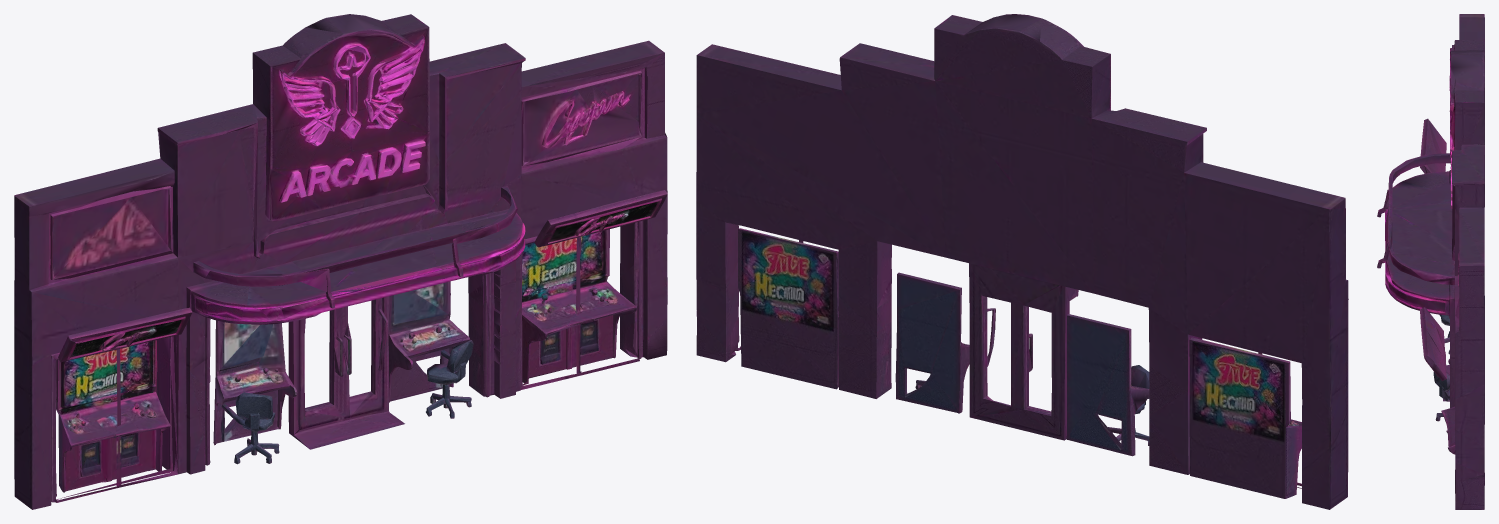
File: mx_bld_arcade.glb
The picture shows the model from 3 angles, left to right: view 1: azimuth 30°, elevation 25°; view 2: azimuth 150°, elevation 25°; view 3: azimuth 270°, elevation 25°; orthographic projection. The views are drawn at different scales.
Bounding box in the file's own units: 1.9 × 1.15 × 0.3445.
1 material, 1 textured.
